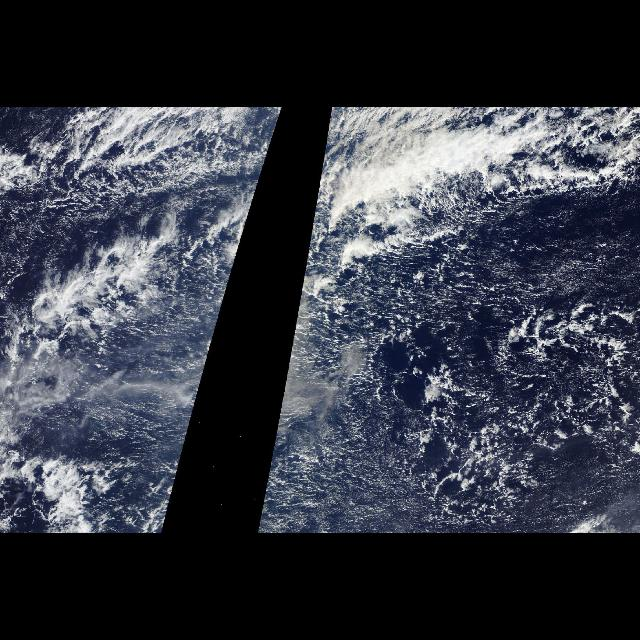Fish: (0, 108, 270, 356), (308, 108, 622, 262)
Gravel: (288, 276, 640, 530)
Sugar: (260, 212, 640, 514), (121, 328, 217, 514)
